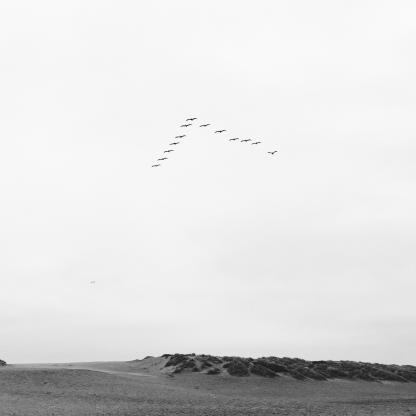bird: (214, 130, 227, 134), (175, 135, 187, 139), (199, 124, 211, 127), (180, 124, 192, 127), (169, 142, 181, 145), (268, 150, 277, 154), (186, 118, 198, 121), (251, 142, 262, 145), (229, 138, 239, 141), (164, 150, 174, 153), (151, 165, 161, 168), (240, 140, 252, 142), (158, 158, 168, 160), (91, 281, 97, 284)
